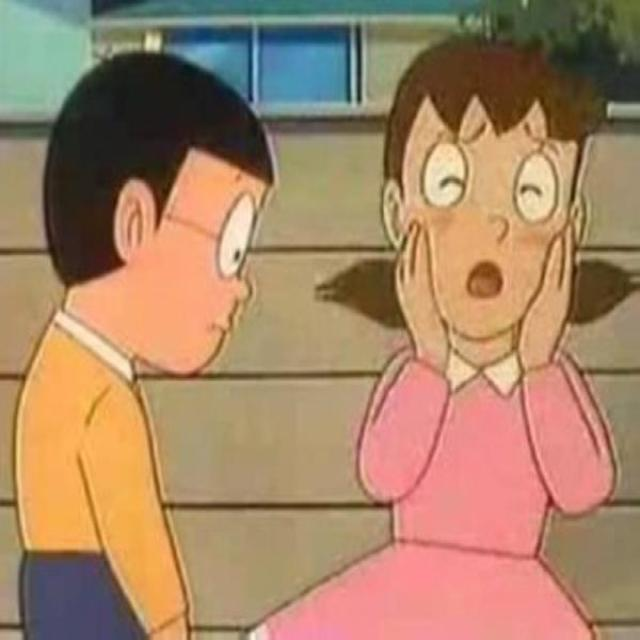nobita: (41, 55, 275, 381)
shizuka: (370, 41, 601, 362)
